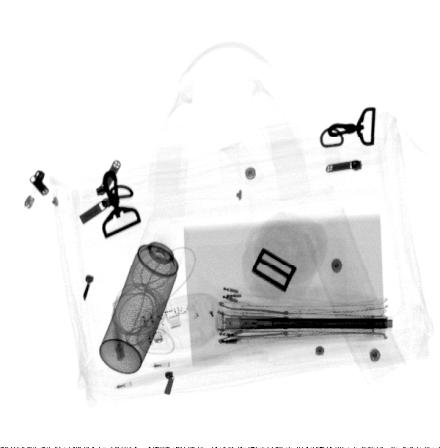Sprayer: (99, 209, 191, 377)
